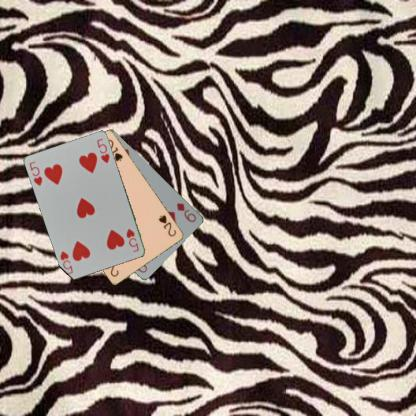2s: (155, 213, 178, 238)
5h: (27, 159, 44, 187), (124, 226, 140, 254)
9d: (174, 200, 198, 223)
